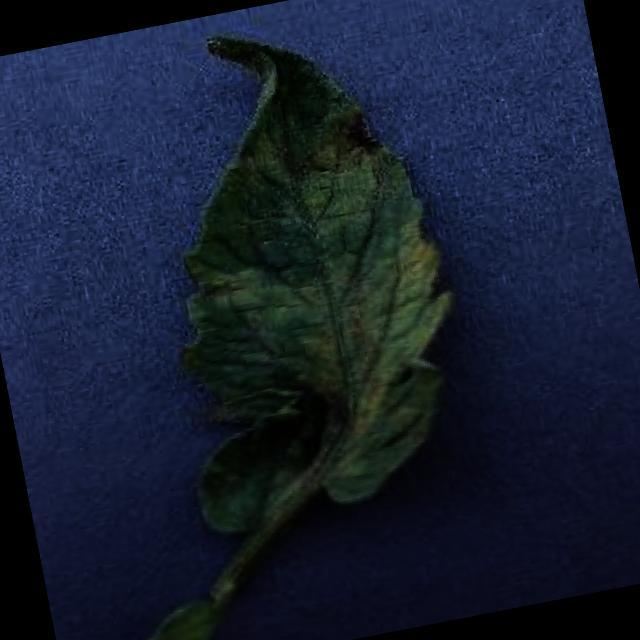Tomato mold leaf: (108, 0, 490, 533)
